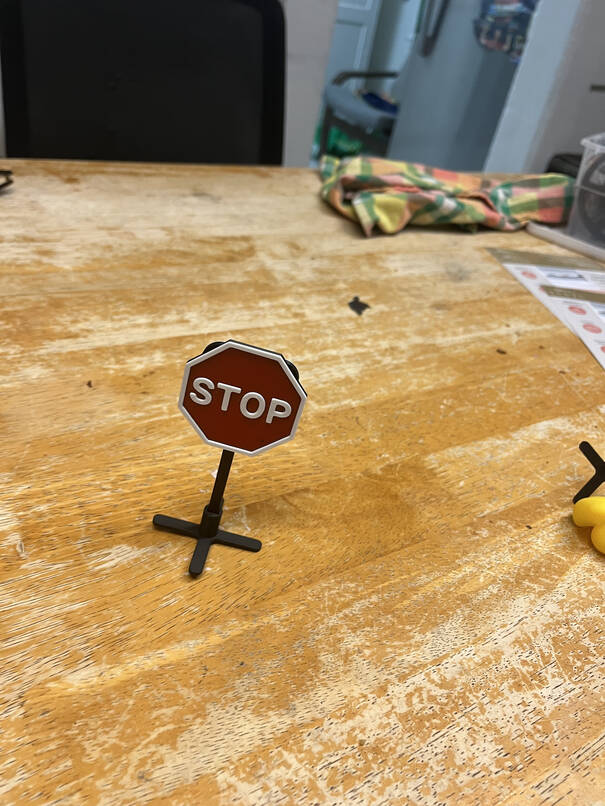sign_stop: (168, 336, 306, 462)
